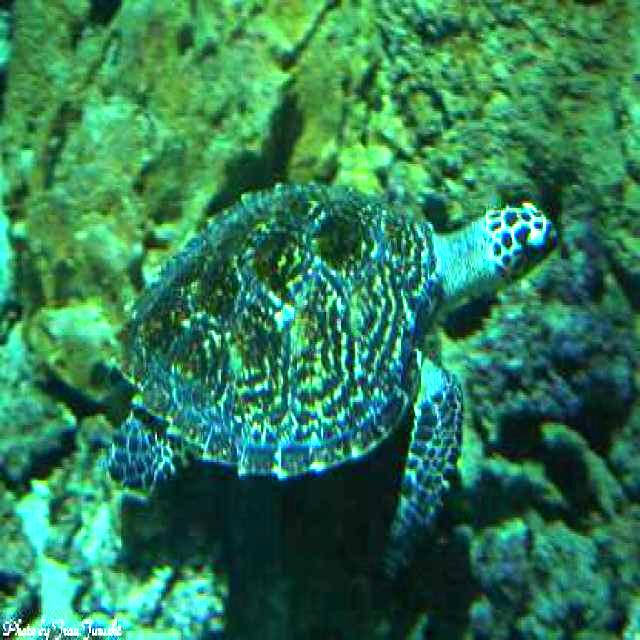Sea turtle: (67, 163, 561, 552)
